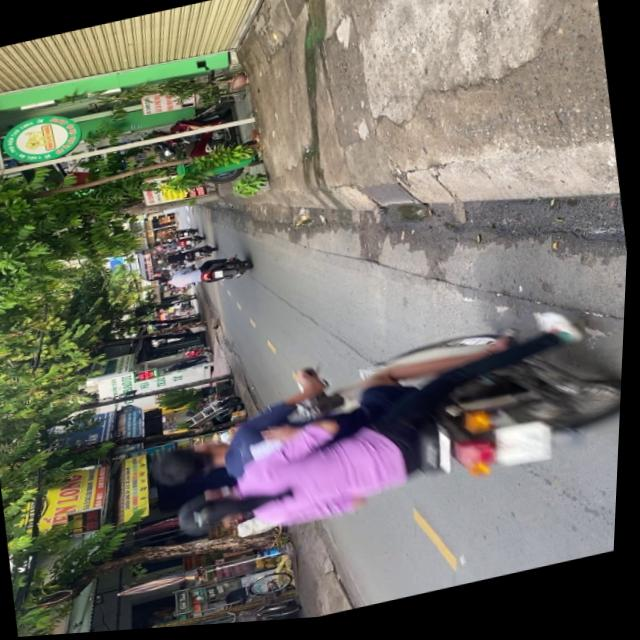licenseplate: (145, 302, 628, 565)
motorcyclist: (177, 485, 260, 542), (153, 438, 236, 495)
nohelmet: (495, 424, 558, 478)
